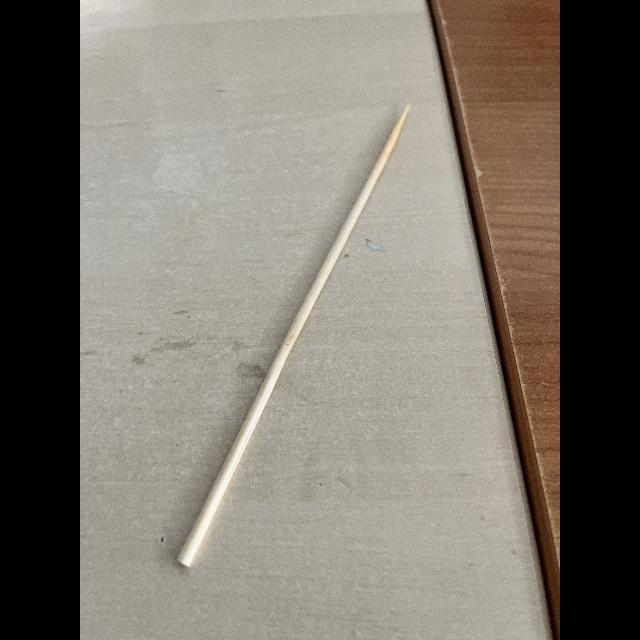stick: (166, 94, 414, 570)
